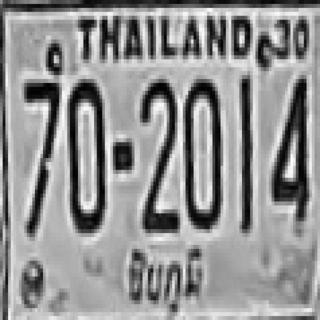N00: (66, 75, 104, 229), (183, 75, 221, 225)
N01: (239, 75, 250, 221)
N02: (140, 77, 178, 219)
N04: (269, 73, 307, 223)
N07: (21, 79, 59, 229), (21, 79, 59, 178)
P08: (118, 244, 208, 320)
